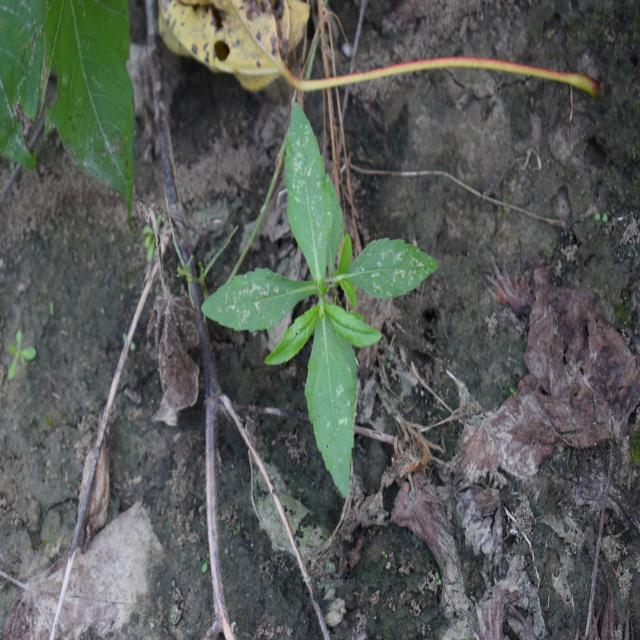Carpetweed: (6, 332, 36, 384)
Eclipta: (200, 99, 440, 502)
